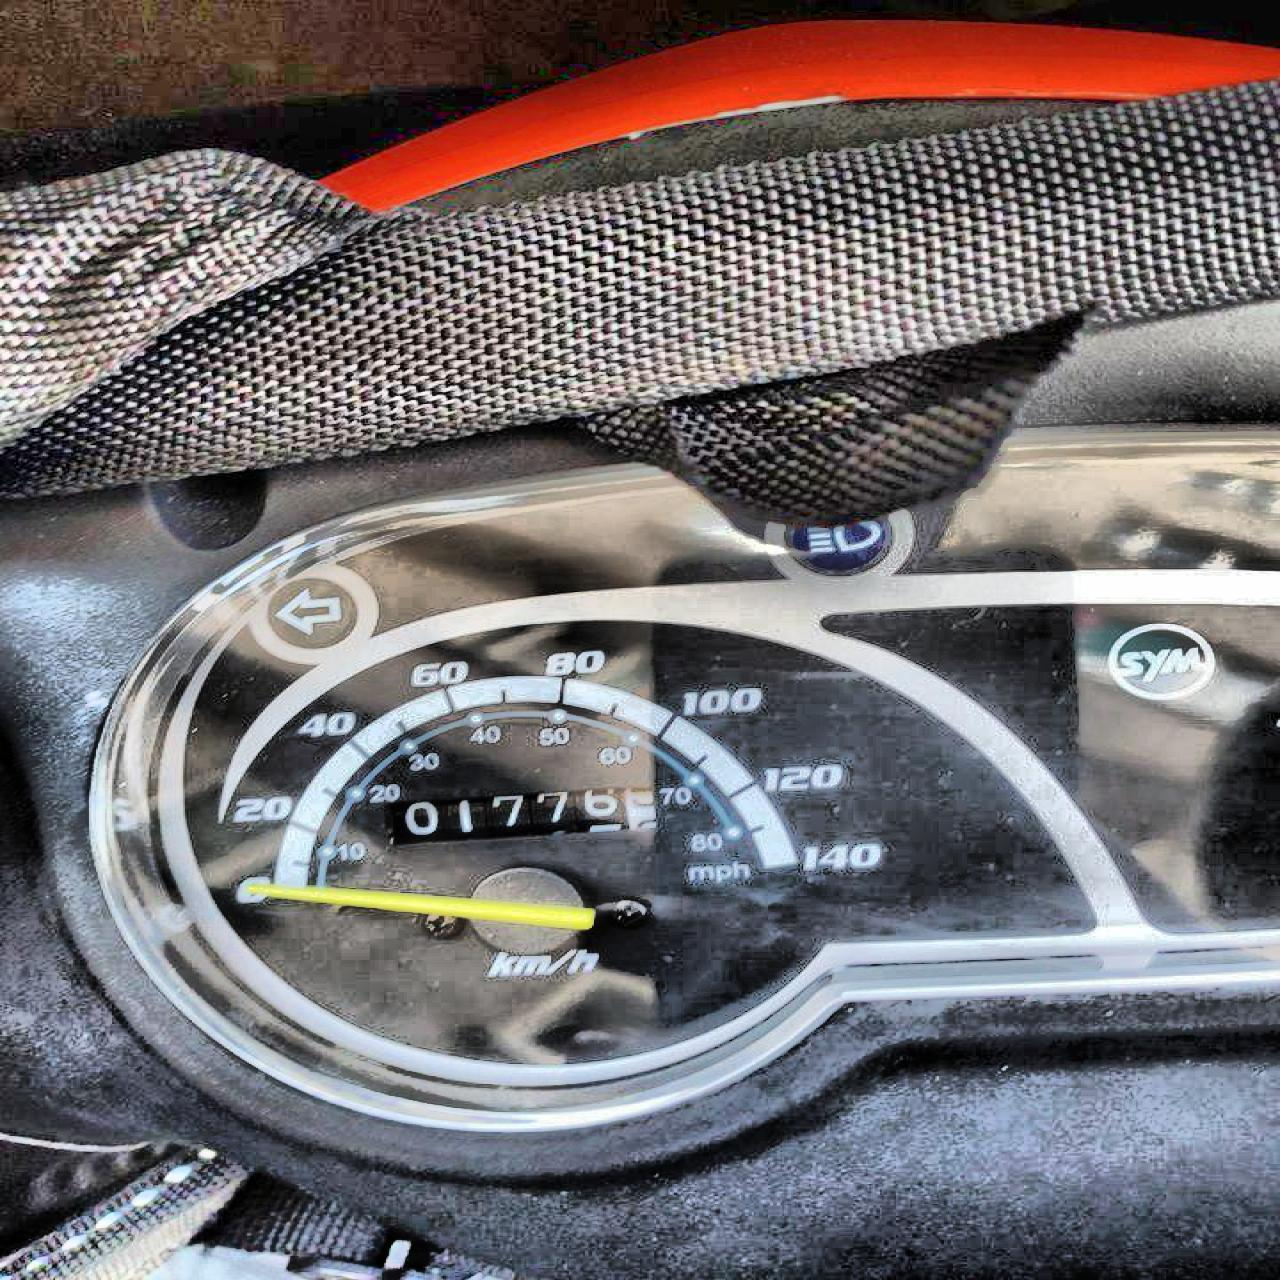0: (400, 798, 440, 836), (384, 783, 400, 802)
1: (447, 796, 477, 833)
5: (626, 785, 658, 806)
6: (581, 785, 617, 818)
7: (486, 791, 526, 829), (531, 787, 568, 825)
odometer: (382, 781, 660, 846)
